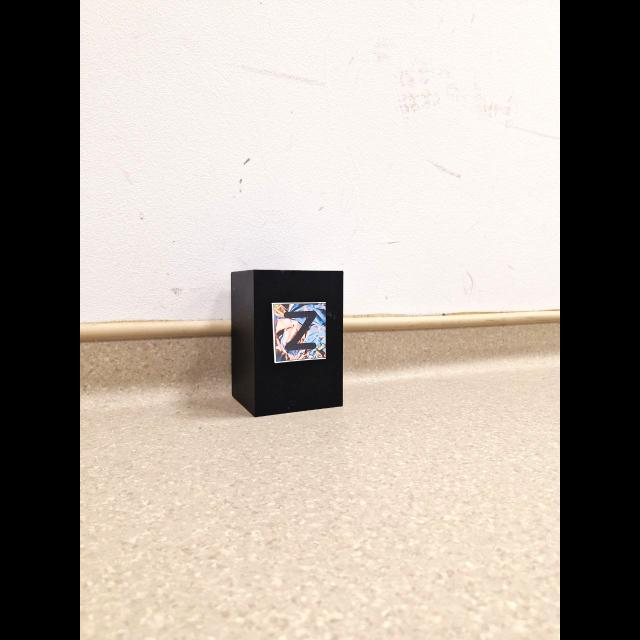Z: (284, 310, 316, 351)
